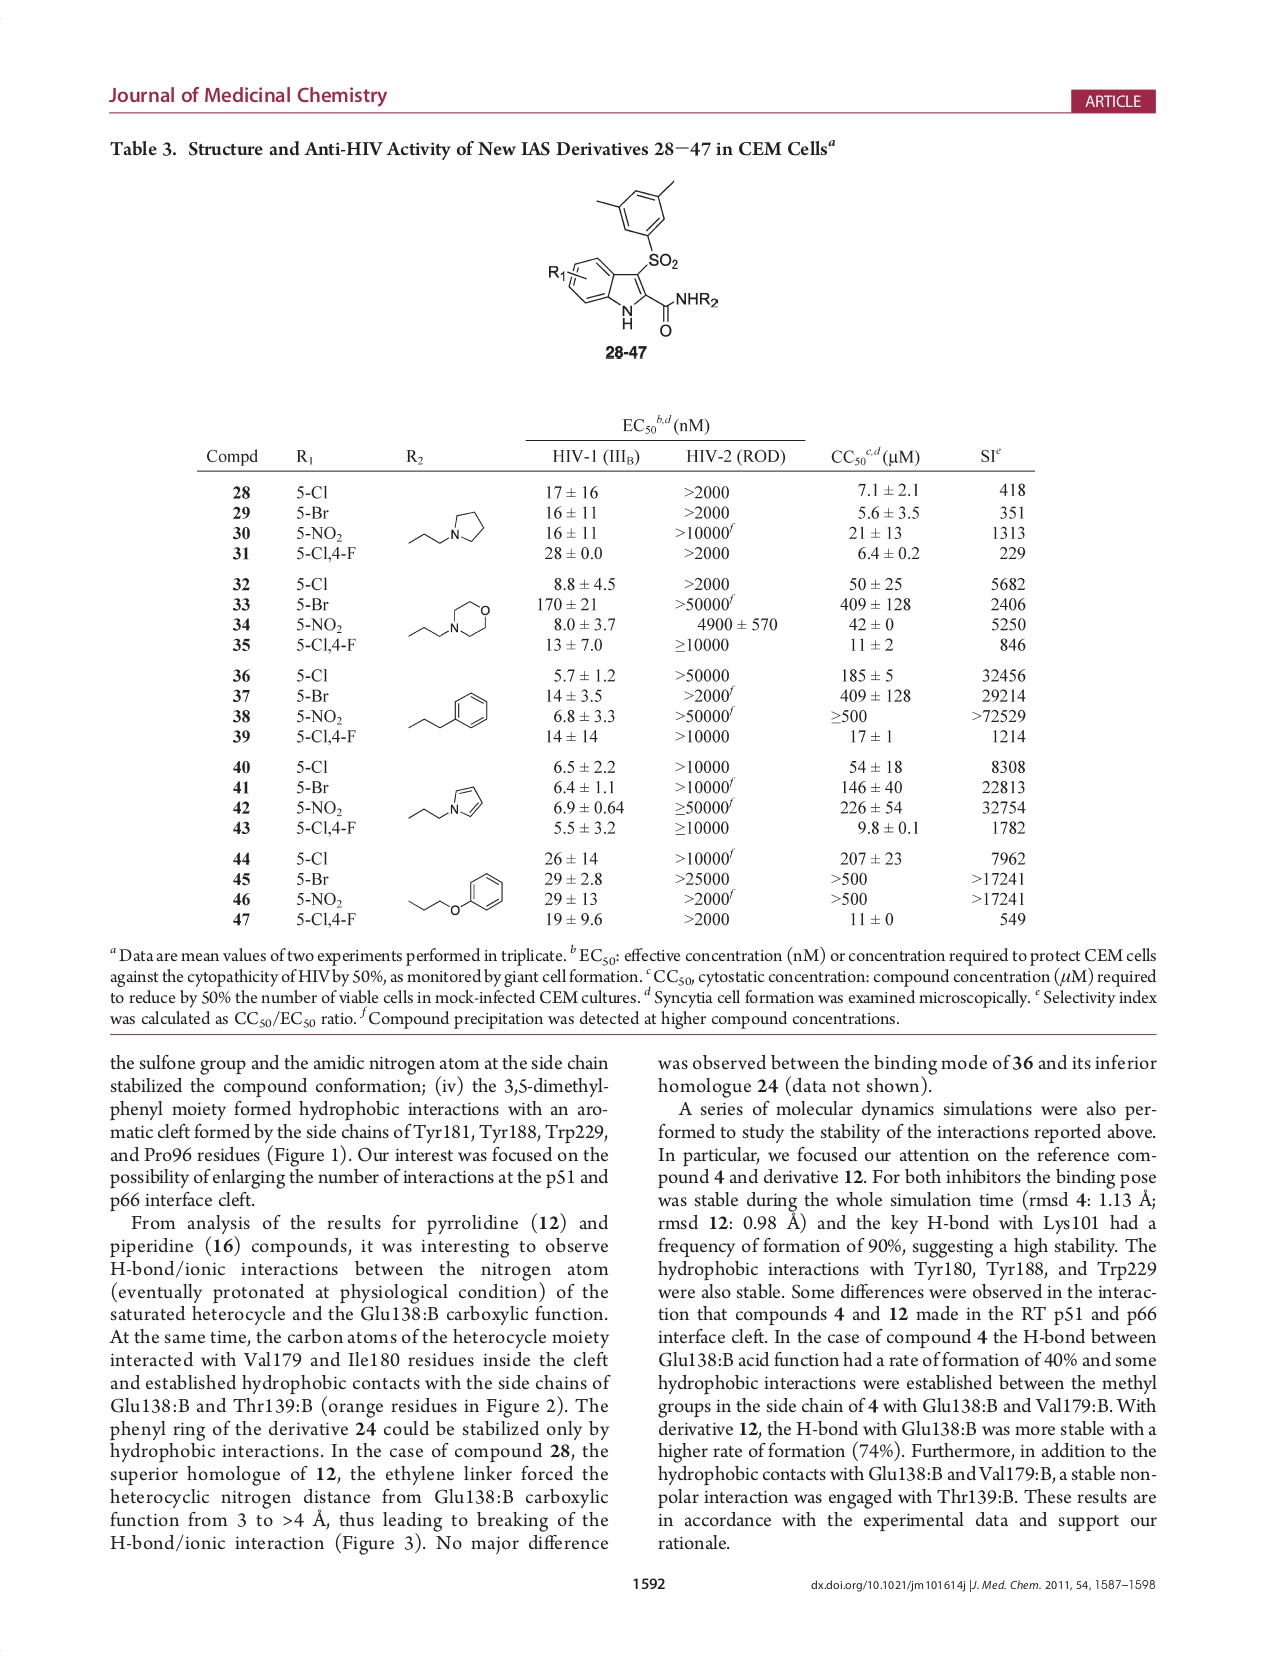exist_molecular: (541, 176, 723, 338), (406, 870, 505, 918), (402, 597, 493, 645), (403, 686, 492, 734), (399, 781, 485, 829), (402, 505, 481, 551)
